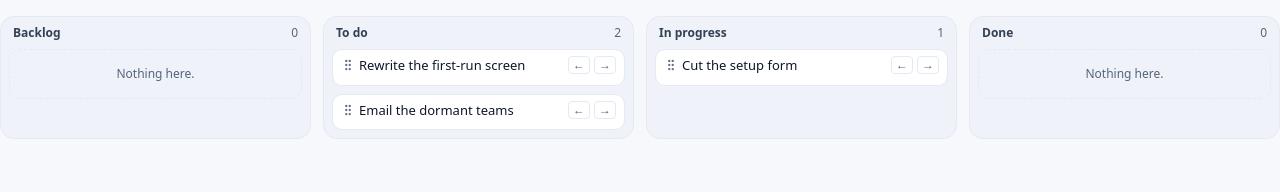
Test: moving a card with the keyboard › puts the board back and says why when the write is refused
Click the button named "Reorder Email the dormant teams". click: (348, 110)
box: [341,103,355,117]
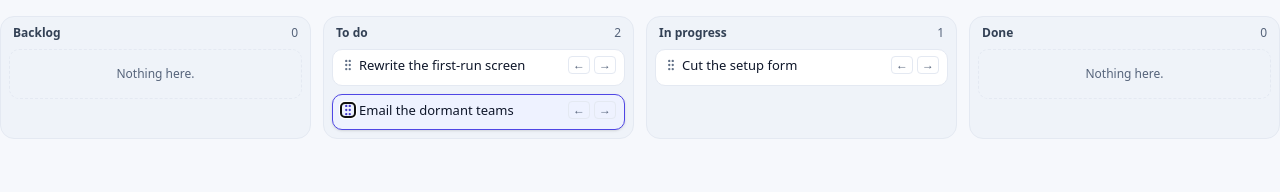
Press ArrowUp in the button named "Reorder Email the dormant teams", box [341,103,355,117]
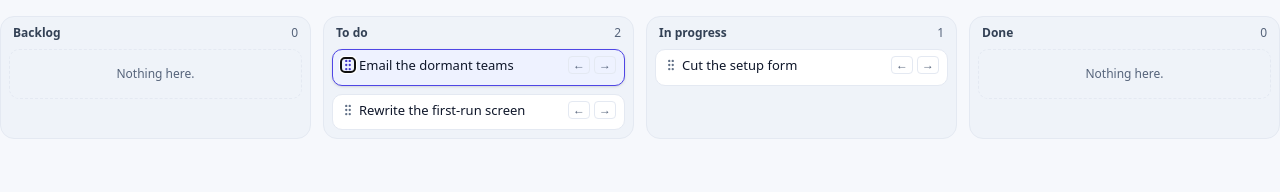
Click the button named "Reorder Email the dormant teams". click: (348, 65)
box: [341,58,355,72]
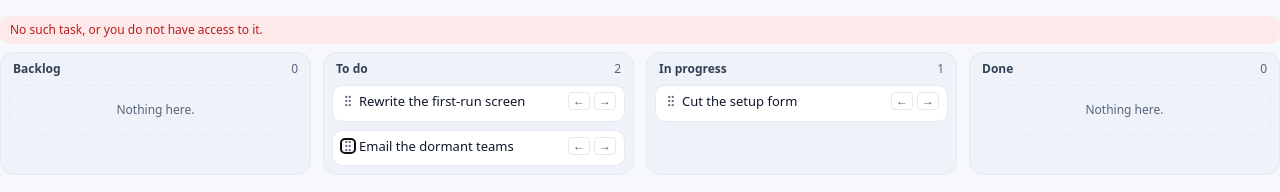
Now the message "No such task, or you do not have access to it." is shown, box [0,16,1279,44]
